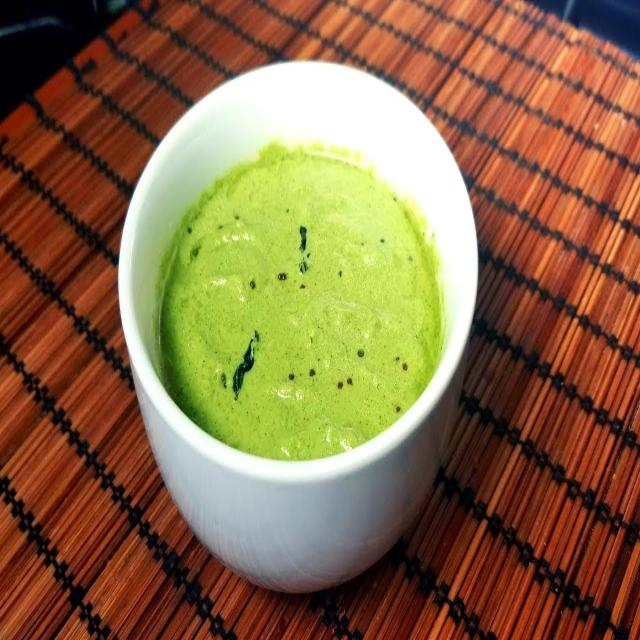puthina chutney: (133, 77, 468, 515)
